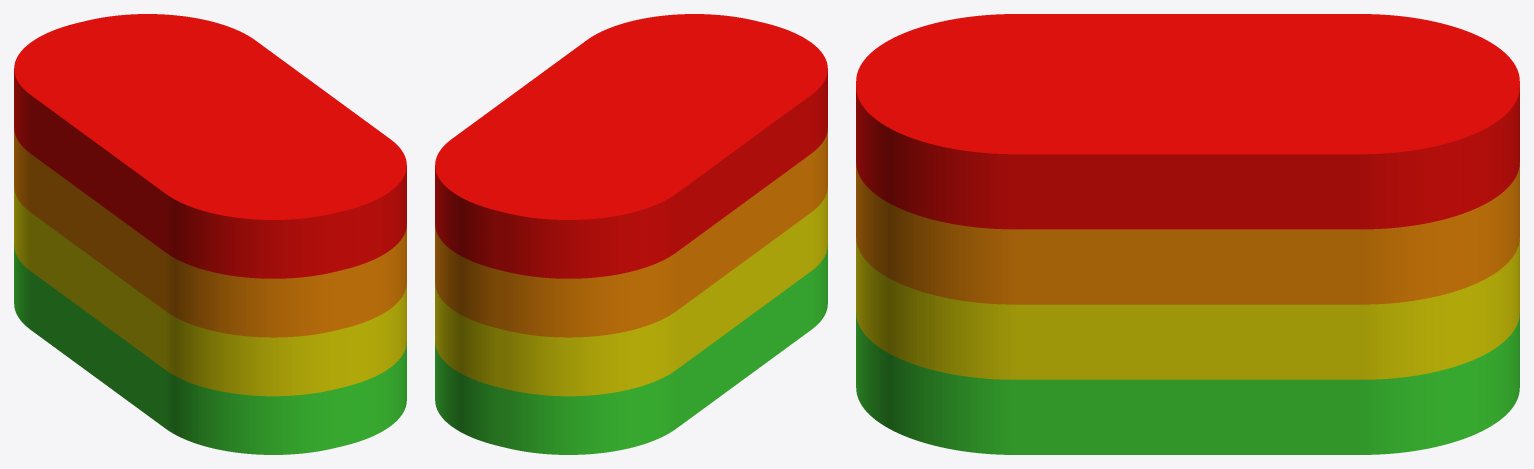
Rendered from pastry2.fbx.
The picture shows the model from 3 angles, left to right: view 1: azimuth 30°, elevation 25°; view 2: azimuth 150°, elevation 25°; view 3: azimuth 270°, elevation 25°; orthographic projection. The views are drawn at different scales.
Parts seen in each view (by area): view 1: Cube.185, Cube.189, Cube.184, Cube.183, Cube.182, Cube.188, Cube.186, Cube.187; view 2: Cube.189, Cube.185, Cube.188, Cube.187, Cube.186, Cube.184, Cube.182, Cube.183; view 3: Cube.185, Cube.189, Cube.183, Cube.187, Cube.182, Cube.186, Cube.184, Cube.188.
Part boxes in pixels (x1,y1,x2,y2): Cube.185: (98, 89, 406, 278); Cube.189: (14, 14, 322, 202); Cube.184: (98, 203, 406, 337); Cube.183: (98, 262, 406, 396); Cube.182: (98, 321, 406, 454); Cube.188: (14, 128, 98, 261); Cube.186: (14, 245, 98, 378); Cube.187: (14, 187, 98, 320); Cube.189: (435, 89, 743, 278); Cube.185: (519, 14, 827, 202); Cube.188: (435, 203, 743, 337); Cube.187: (435, 262, 743, 396); Cube.186: (435, 321, 743, 454); Cube.184: (743, 128, 827, 261); Cube.182: (743, 245, 827, 378); Cube.183: (743, 187, 827, 320); Cube.185: (856, 14, 1187, 229); Cube.189: (1188, 14, 1519, 229); Cube.183: (856, 238, 1187, 379); Cube.187: (1188, 238, 1519, 379); Cube.182: (856, 313, 1187, 454); Cube.186: (1188, 313, 1519, 454); Cube.184: (856, 163, 1187, 304); Cube.188: (1188, 163, 1519, 304).
Size of the model in its own units: 200 by 200 by 400.
